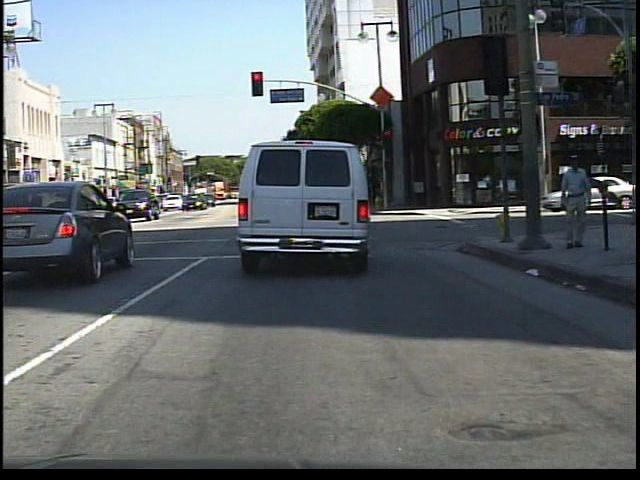person: (558, 152, 601, 254)
